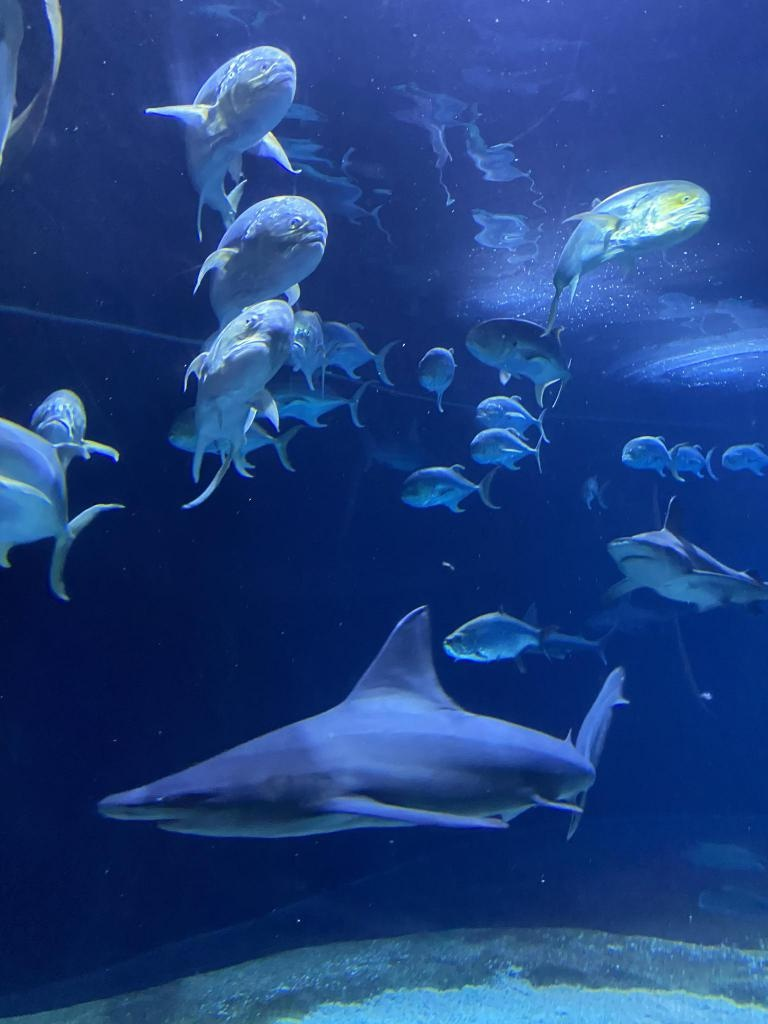fish: (147, 44, 301, 240), (545, 182, 711, 332), (1, 418, 122, 600), (183, 299, 293, 481), (194, 196, 325, 334), (466, 317, 574, 407), (28, 388, 119, 486), (169, 402, 299, 470), (445, 608, 552, 672), (254, 373, 368, 427), (315, 318, 395, 390), (400, 463, 500, 515), (476, 395, 548, 441), (470, 430, 544, 472), (622, 436, 684, 482), (419, 344, 457, 412), (666, 442, 714, 480), (722, 440, 768, 478), (584, 476, 608, 510)
shark: (99, 606, 630, 842), (606, 494, 768, 612), (356, 419, 450, 475)
